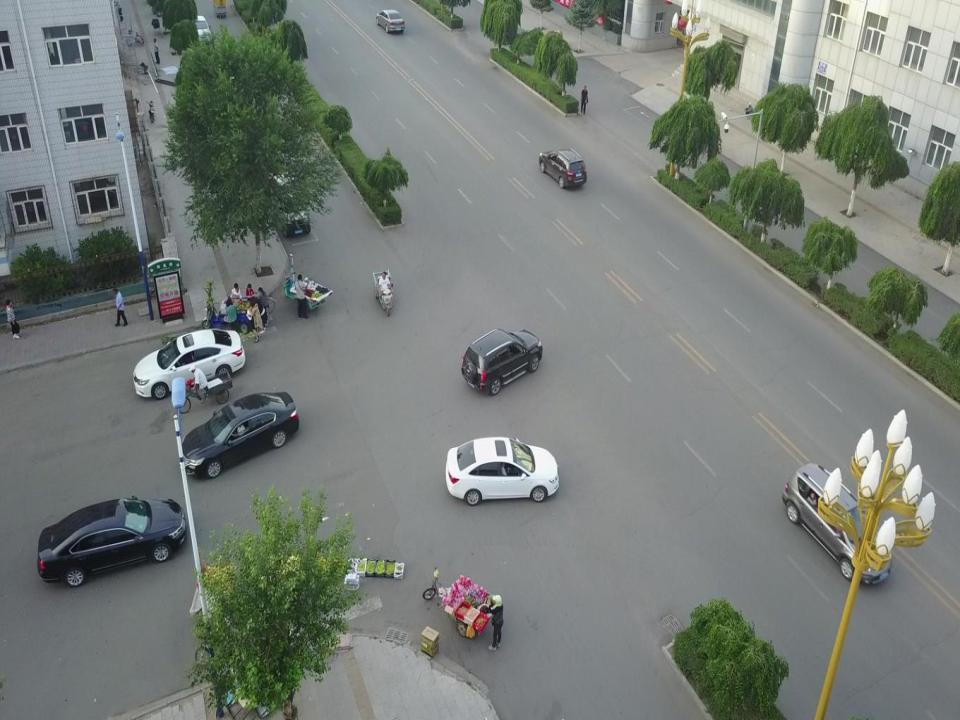car: (786, 460, 893, 586), (35, 497, 185, 576), (182, 392, 298, 476), (130, 328, 246, 400), (445, 440, 560, 502), (465, 328, 542, 393), (539, 145, 587, 188), (186, 12, 214, 45), (376, 8, 405, 32)
truck: (264, 163, 312, 233), (211, 3, 227, 19)
